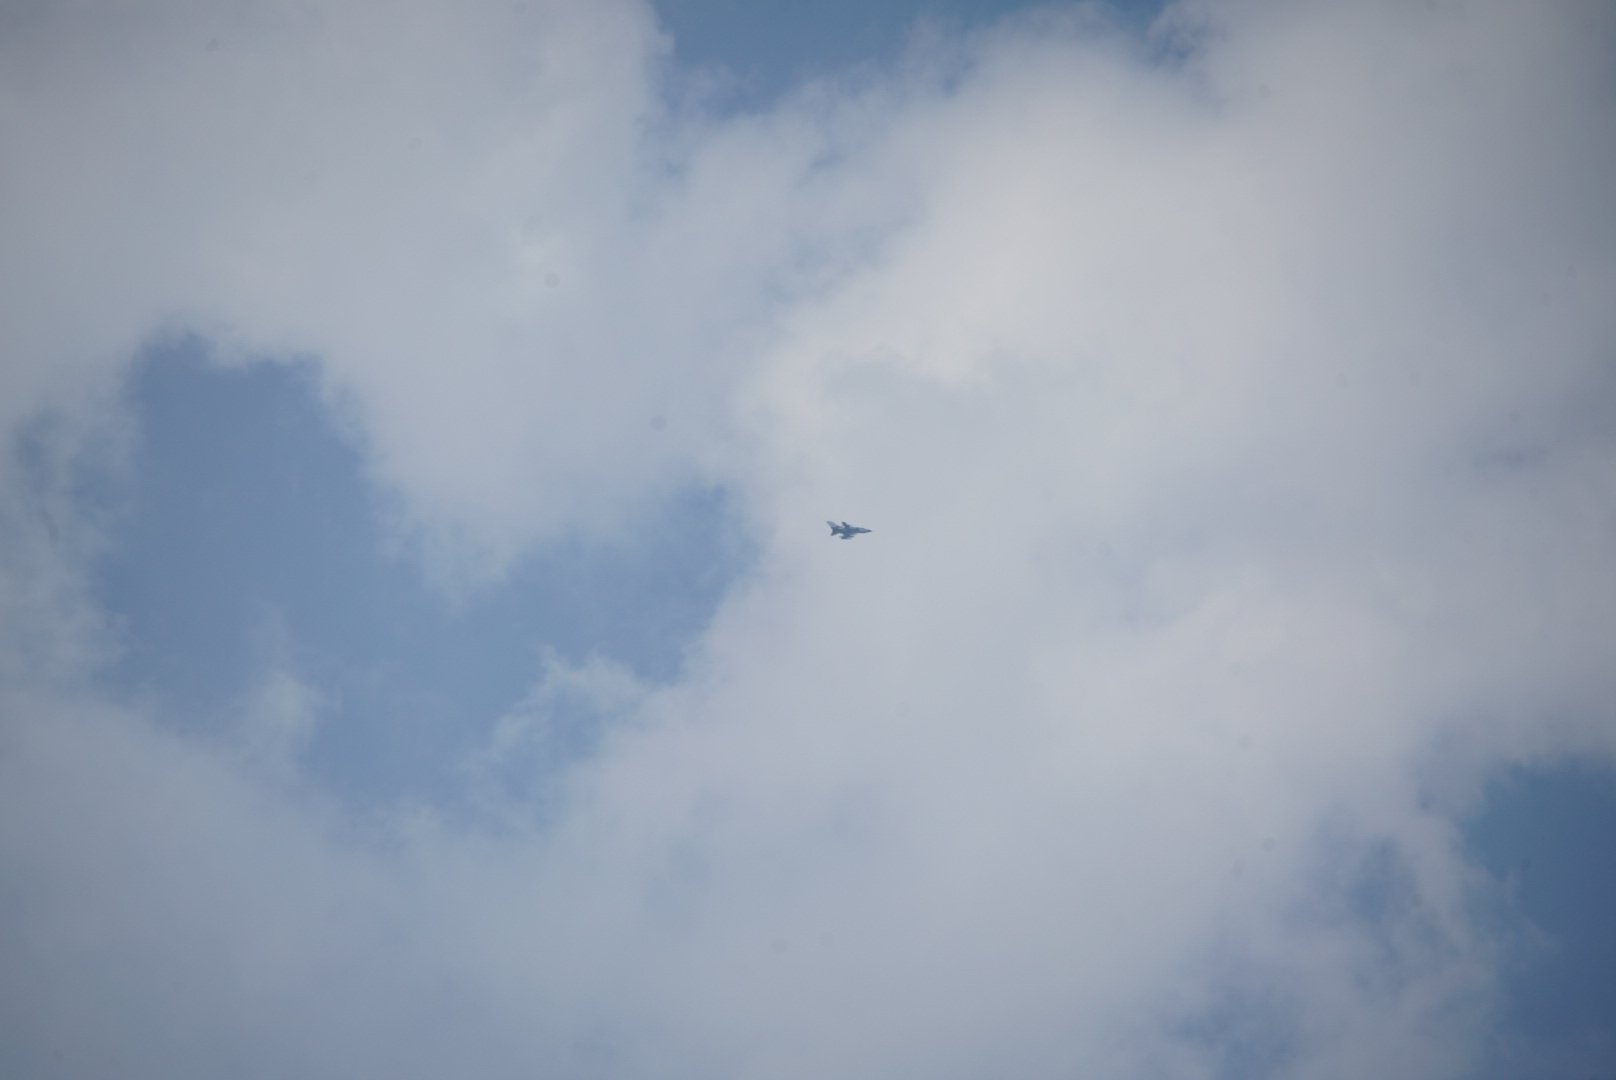Tornado: (825, 520, 876, 540)
